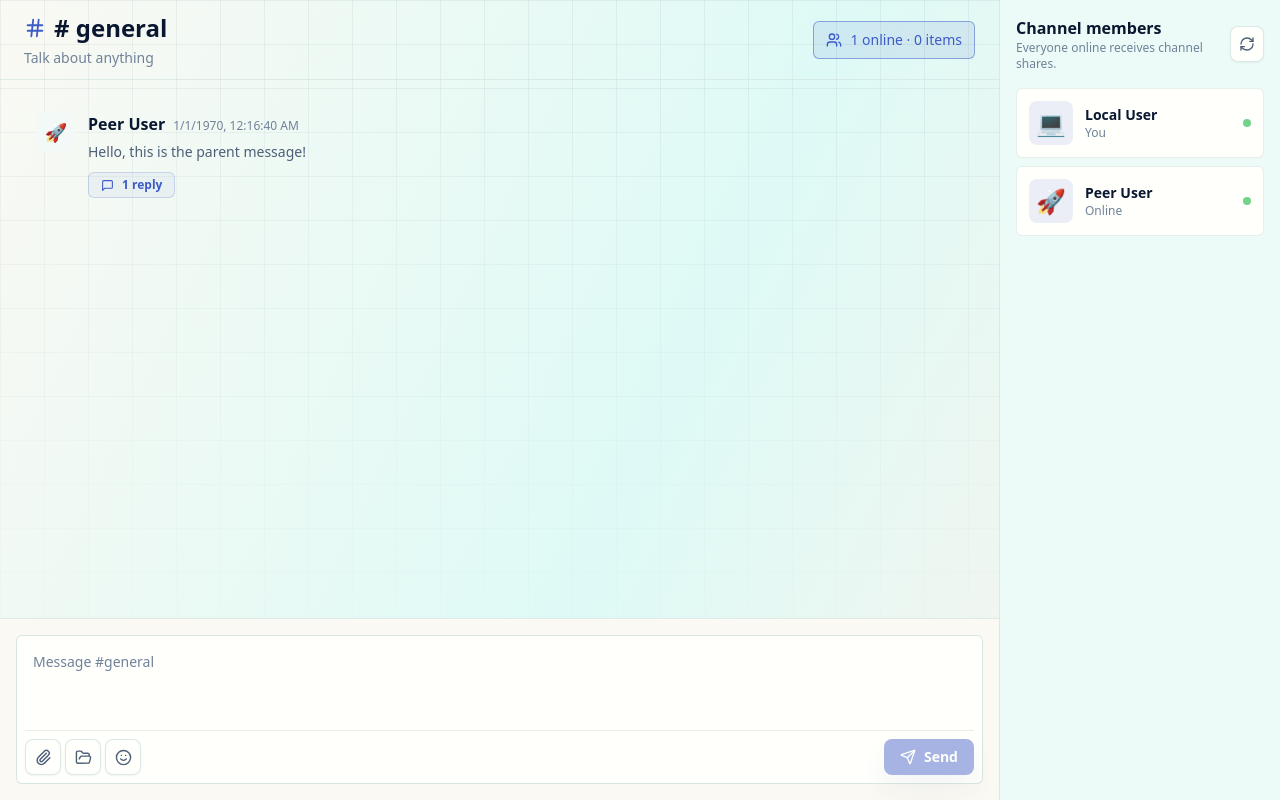
Test case: ChannelShare Threading tests › renders replies count indicator and opens thread on click
Check: the text "1 reply" is shown, box [122,177,162,193]
Click to open thread panel
What coordinates should you click on to do the following:
click the button "1 reply"
I would click on:
 (132, 185)
Its box is [88,172,175,198].
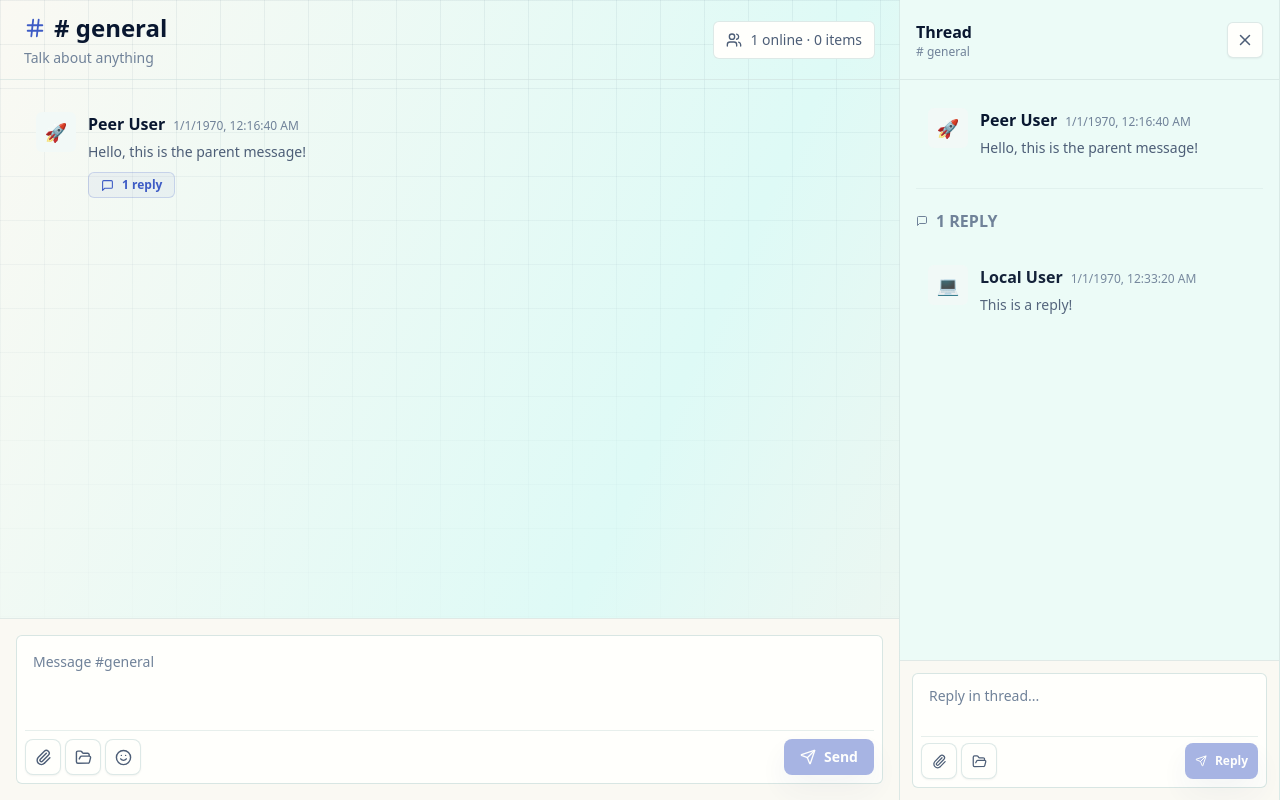
Check: the heading "Thread" is shown, box [916,20,972,44]
Check: the text "This is a reply!" is shown, box [980,295,1072,314]
